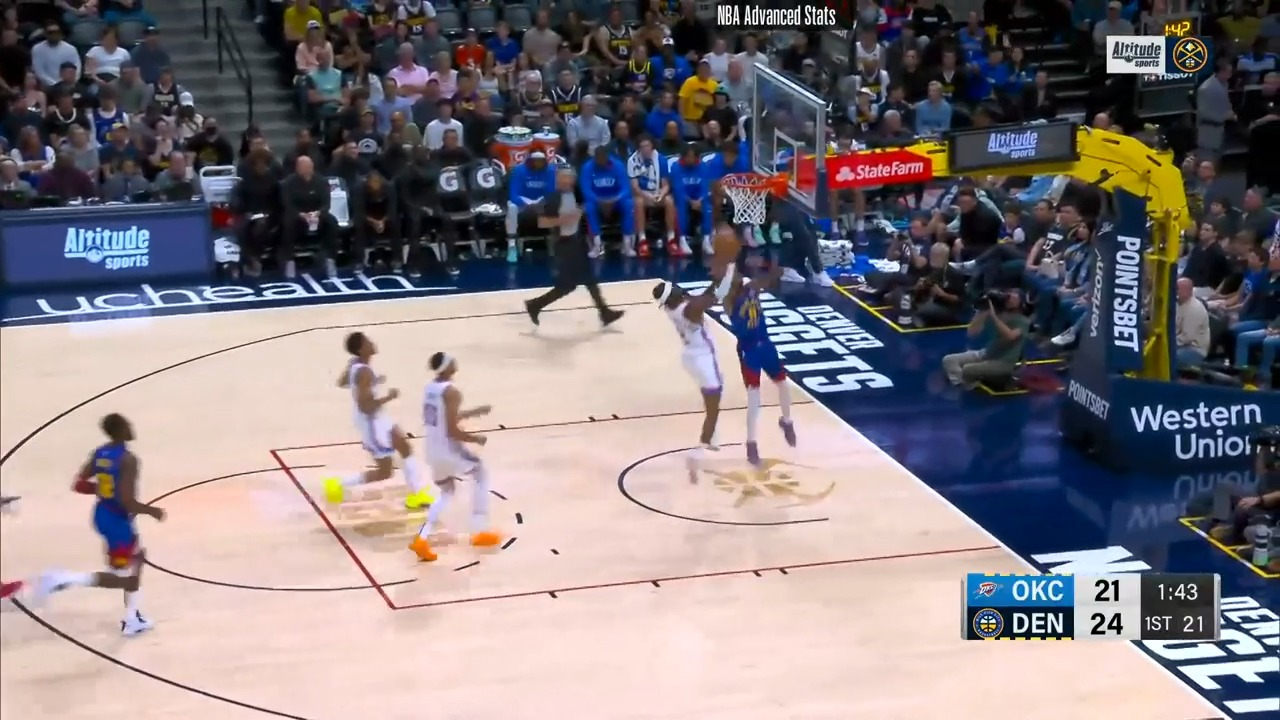net: (720, 166, 789, 230)
player: (39, 409, 167, 646), (399, 348, 522, 570), (717, 245, 806, 484), (658, 281, 744, 485), (334, 329, 427, 511)
referee: (520, 160, 626, 336)
